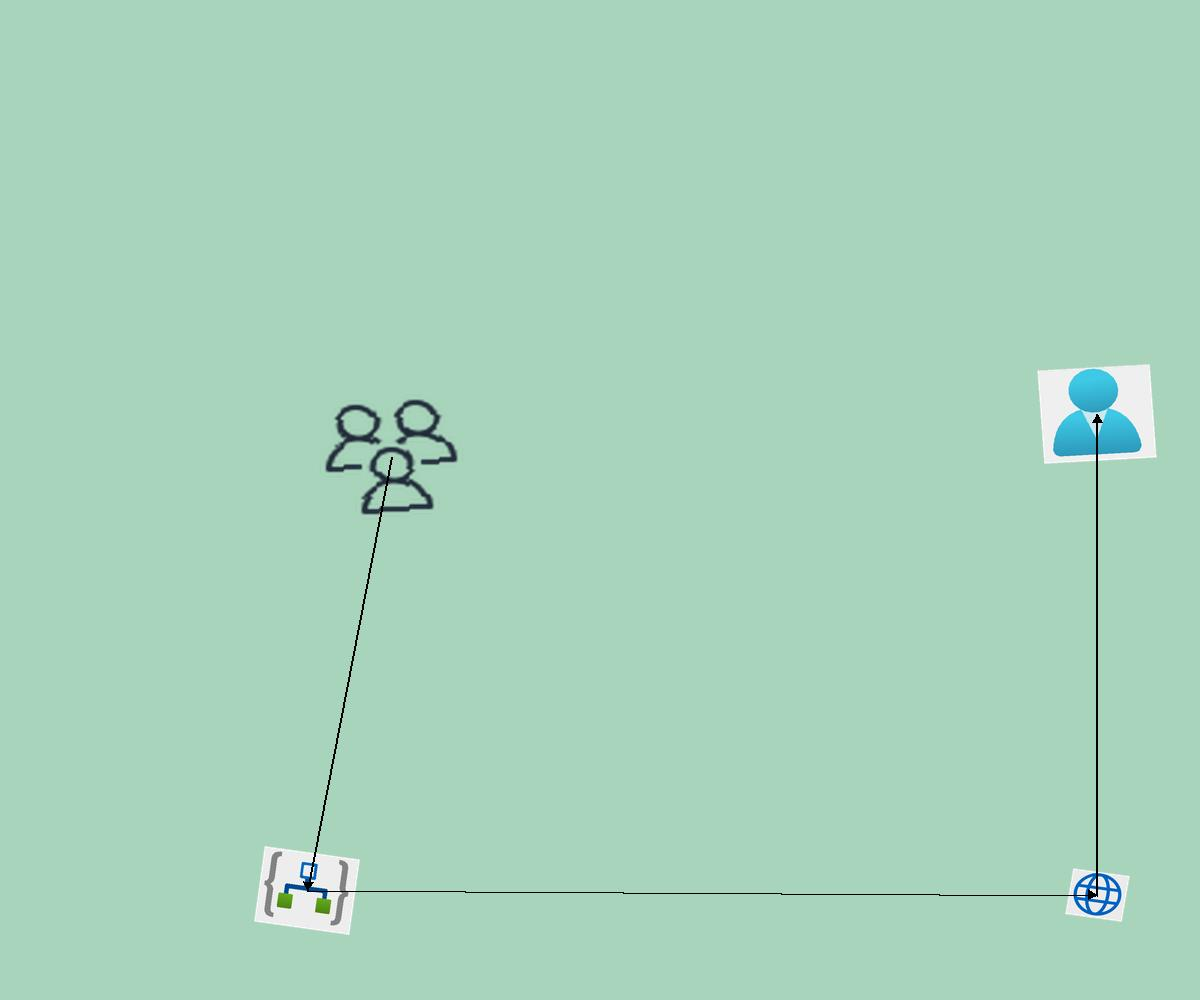AWS-Res_Users: (311, 390, 472, 524)
Azure_http: (1065, 868, 1130, 922)
Azure_integration-204-Logic-Apps: (254, 846, 360, 935)
Azure_users: (1037, 364, 1157, 464)
